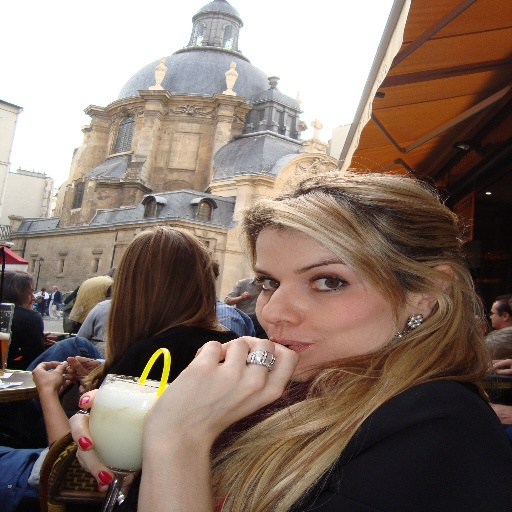hand: (154, 339, 300, 425), (66, 387, 117, 495), (63, 353, 104, 391), (28, 359, 67, 395), (488, 400, 511, 425), (483, 356, 511, 375), (41, 329, 60, 349), (238, 290, 252, 301)
